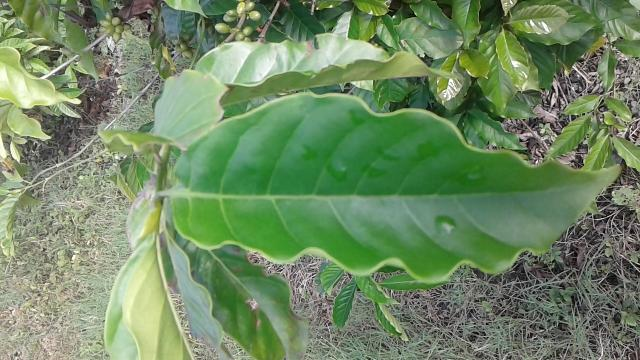healthy: (176, 88, 620, 278)
